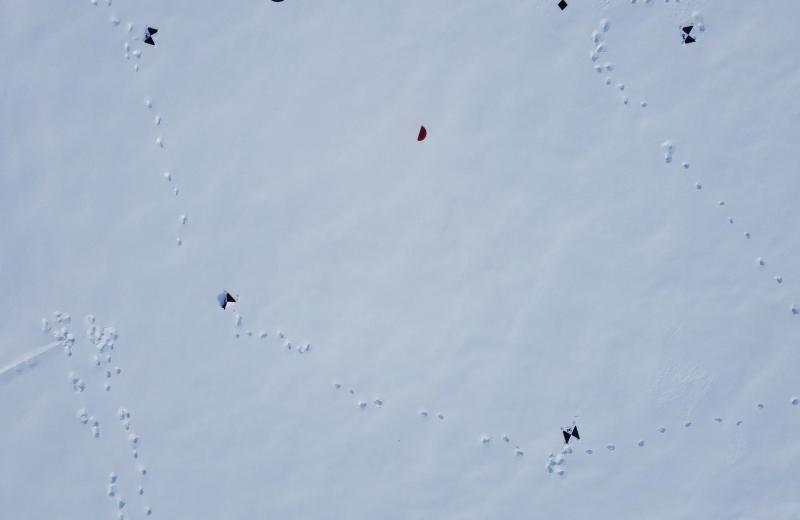Semi Circle: (417, 125, 428, 142)
Square: (557, 0, 568, 13)
